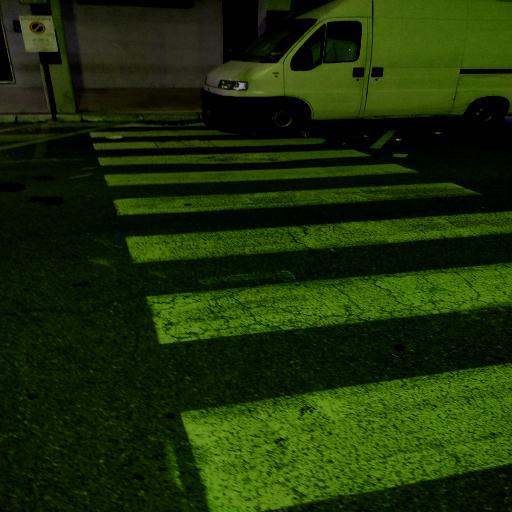crosswalk: (98, 160, 488, 222)
